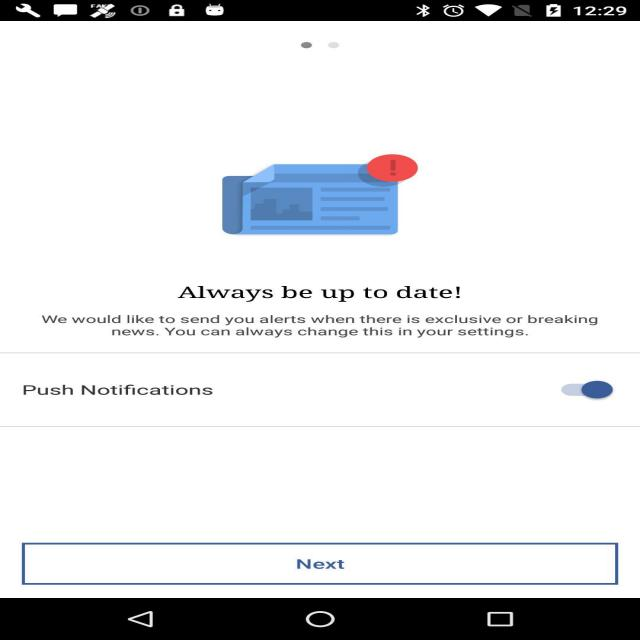button: (19, 542, 614, 586)
image: (172, 138, 486, 244)
text: (18, 272, 614, 354)
